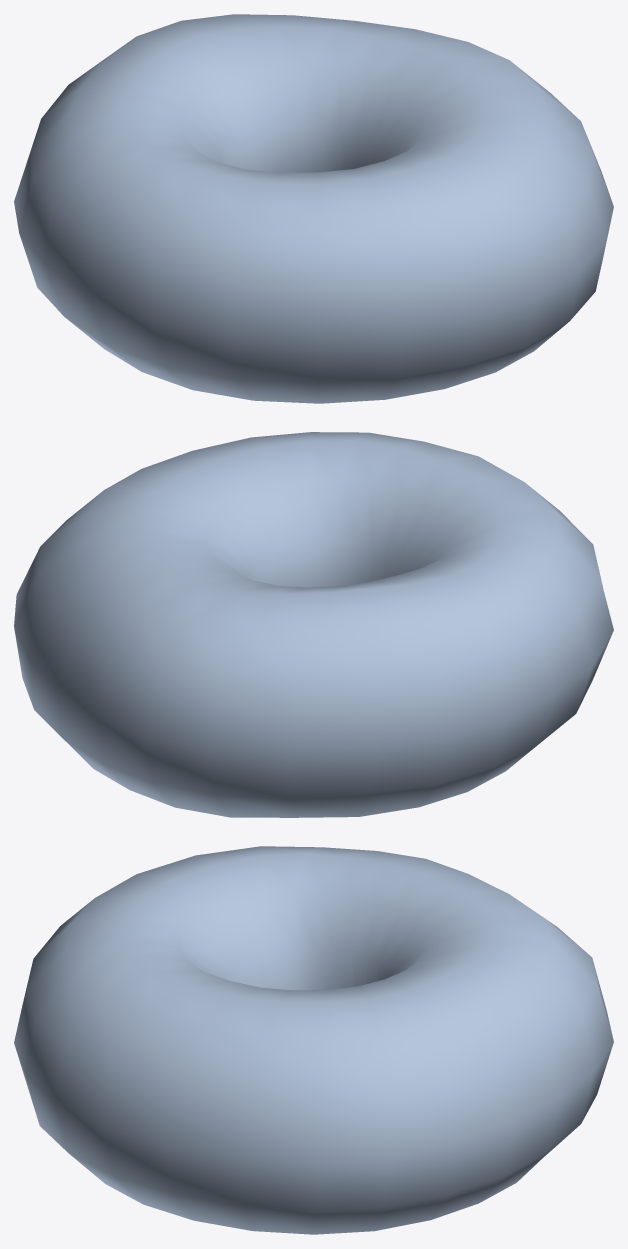
The model's file is bagel.FBX.
3 renders of one model, top to bottom at view 1: azimuth 30°, elevation 25°; view 2: azimuth 150°, elevation 25°; view 3: azimuth 270°, elevation 25°, orthographic. The views are drawn at different scales.
Visible parts, largest first — view 1: Torus001; view 2: Torus001; view 3: Torus001.
Part boxes in pixels (x1,y1,x2,y2): Torus001: [14, 14, 613, 403]; Torus001: [14, 432, 613, 817]; Torus001: [14, 846, 613, 1234].
Size of the model in its own units: 48.06 by 19.25 by 49.2.
